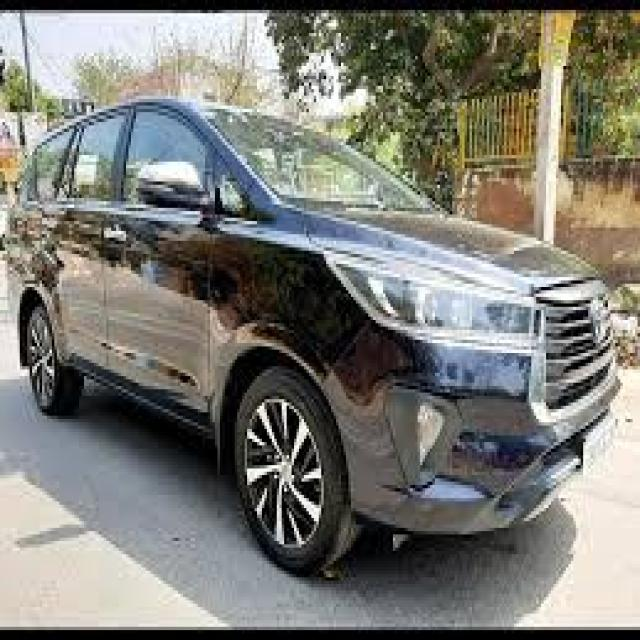light_vehicle: (4, 99, 622, 576)
